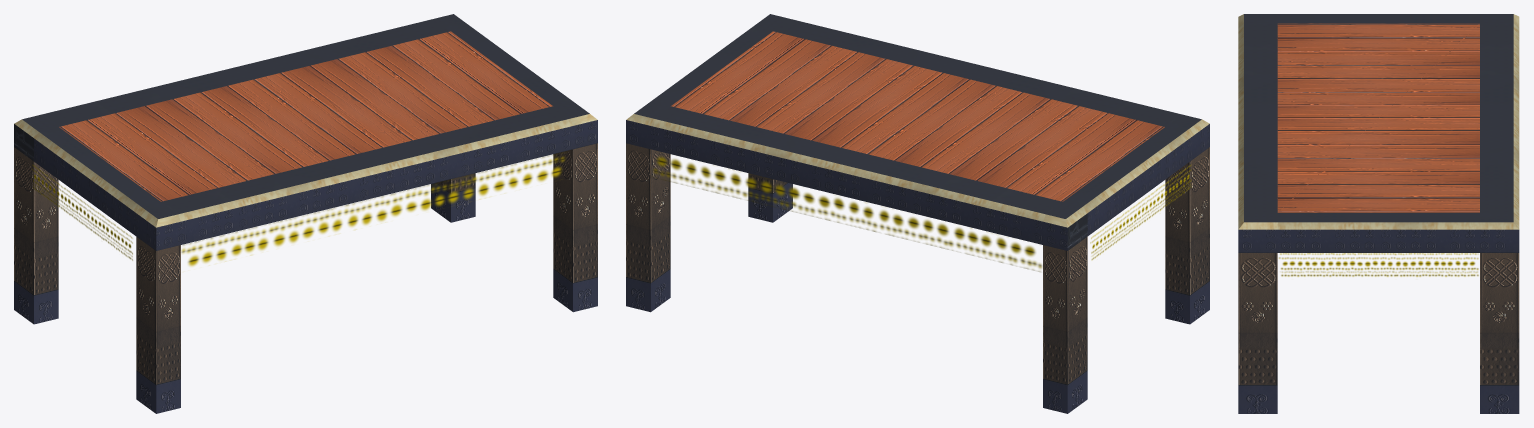
Rendered from polygonalmind-lunar-year-049.glb.
3 views of the same model, side by side, from view 1: azimuth 30°, elevation 25°; view 2: azimuth 150°, elevation 25°; view 3: azimuth 270°, elevation 25° (orthographic).
Visible parts, largest first — view 1: Table02; view 2: Table02; view 3: Table02.
Part boxes in pixels (left/top/right/bottom): Table02: left=14, top=14, right=597, bottom=413; Table02: left=626, top=14, right=1209, bottom=413; Table02: left=1238, top=14, right=1519, bottom=413.
Bounding box in the file's own units: 1.91 × 0.7883 × 1.06.
Materials: 5 (5 with a texture image).
